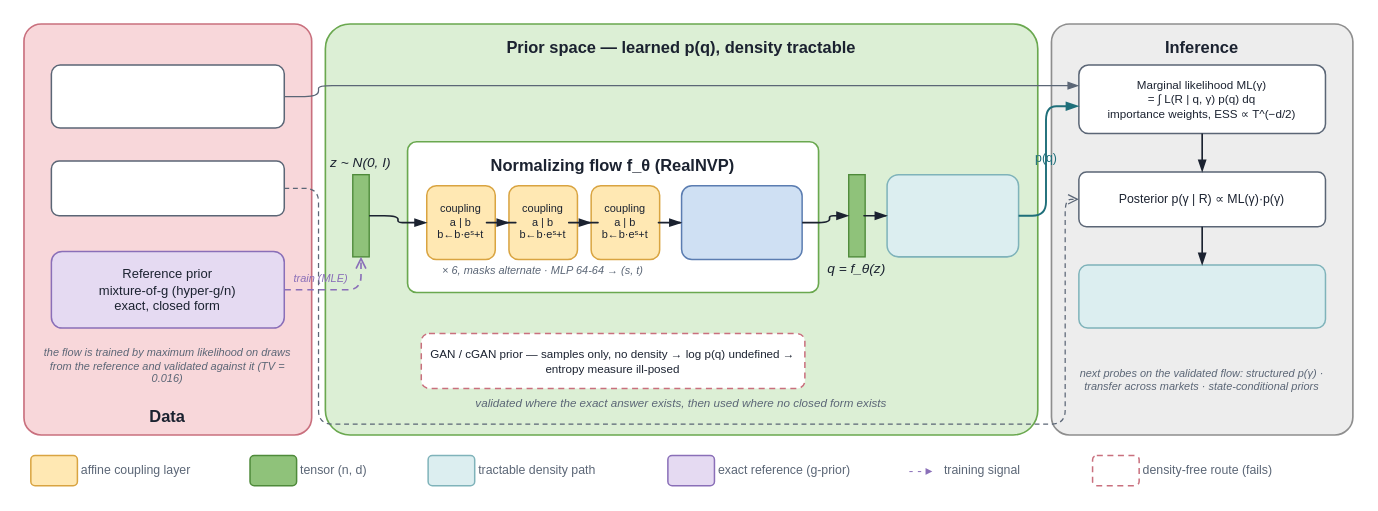
This 1378x511 diagram has some shape labels left out. The centre of each missing label's shape, as x and y in pixels:
Factor panel R ∈ ℝ^(T×K) K candidate factors · T months: pixel 167 96
log p(q) = log p_z(z) − Σ log|det J|: pixel 952 215
Model space γ ∈ {0,1}^K (which factors enter the SDF): pixel 167 188
Model uncertainty H[p(γ | R)] → Sharpe by H: pixel 1202 296
sinh–arcsinh heavy-tail layer: pixel 741 222
